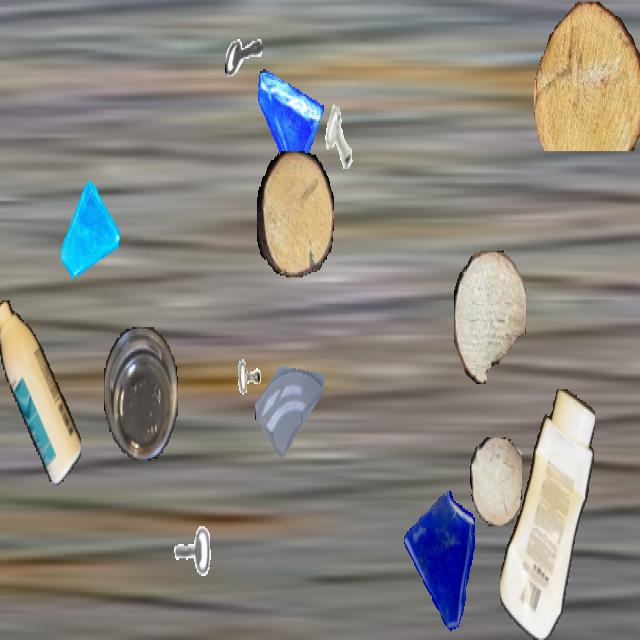glass: (400, 489, 484, 638), (255, 336, 327, 464), (254, 64, 324, 188), (61, 182, 119, 284)
metal: (314, 92, 366, 185), (163, 522, 213, 612), (222, 355, 270, 441), (225, 21, 263, 89)
plastic: (500, 390, 594, 638), (0, 300, 81, 486), (104, 327, 178, 459)
wood: (534, 2, 640, 151), (257, 151, 333, 276), (454, 251, 526, 382), (470, 438, 522, 526)
